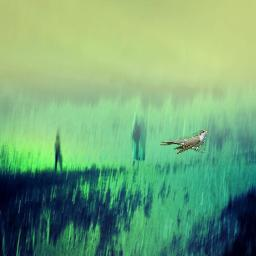Cuckoo: (160, 130, 208, 154)
